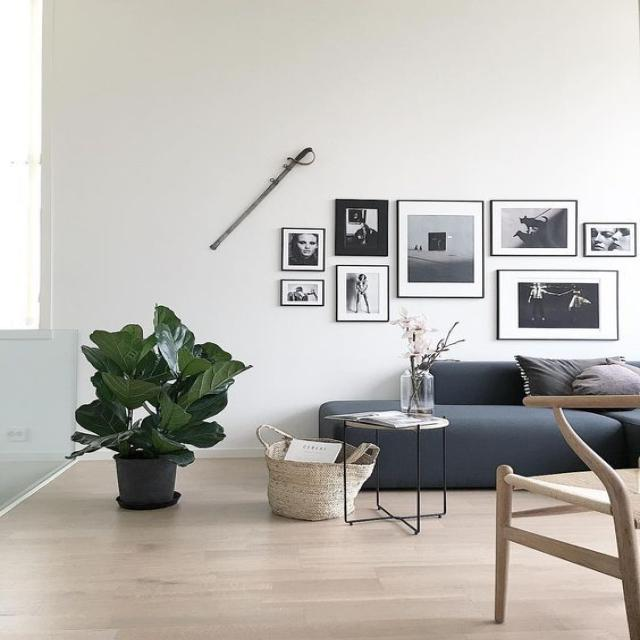modern chair: (485, 392, 640, 636)
modern sofa: (319, 354, 640, 471)
